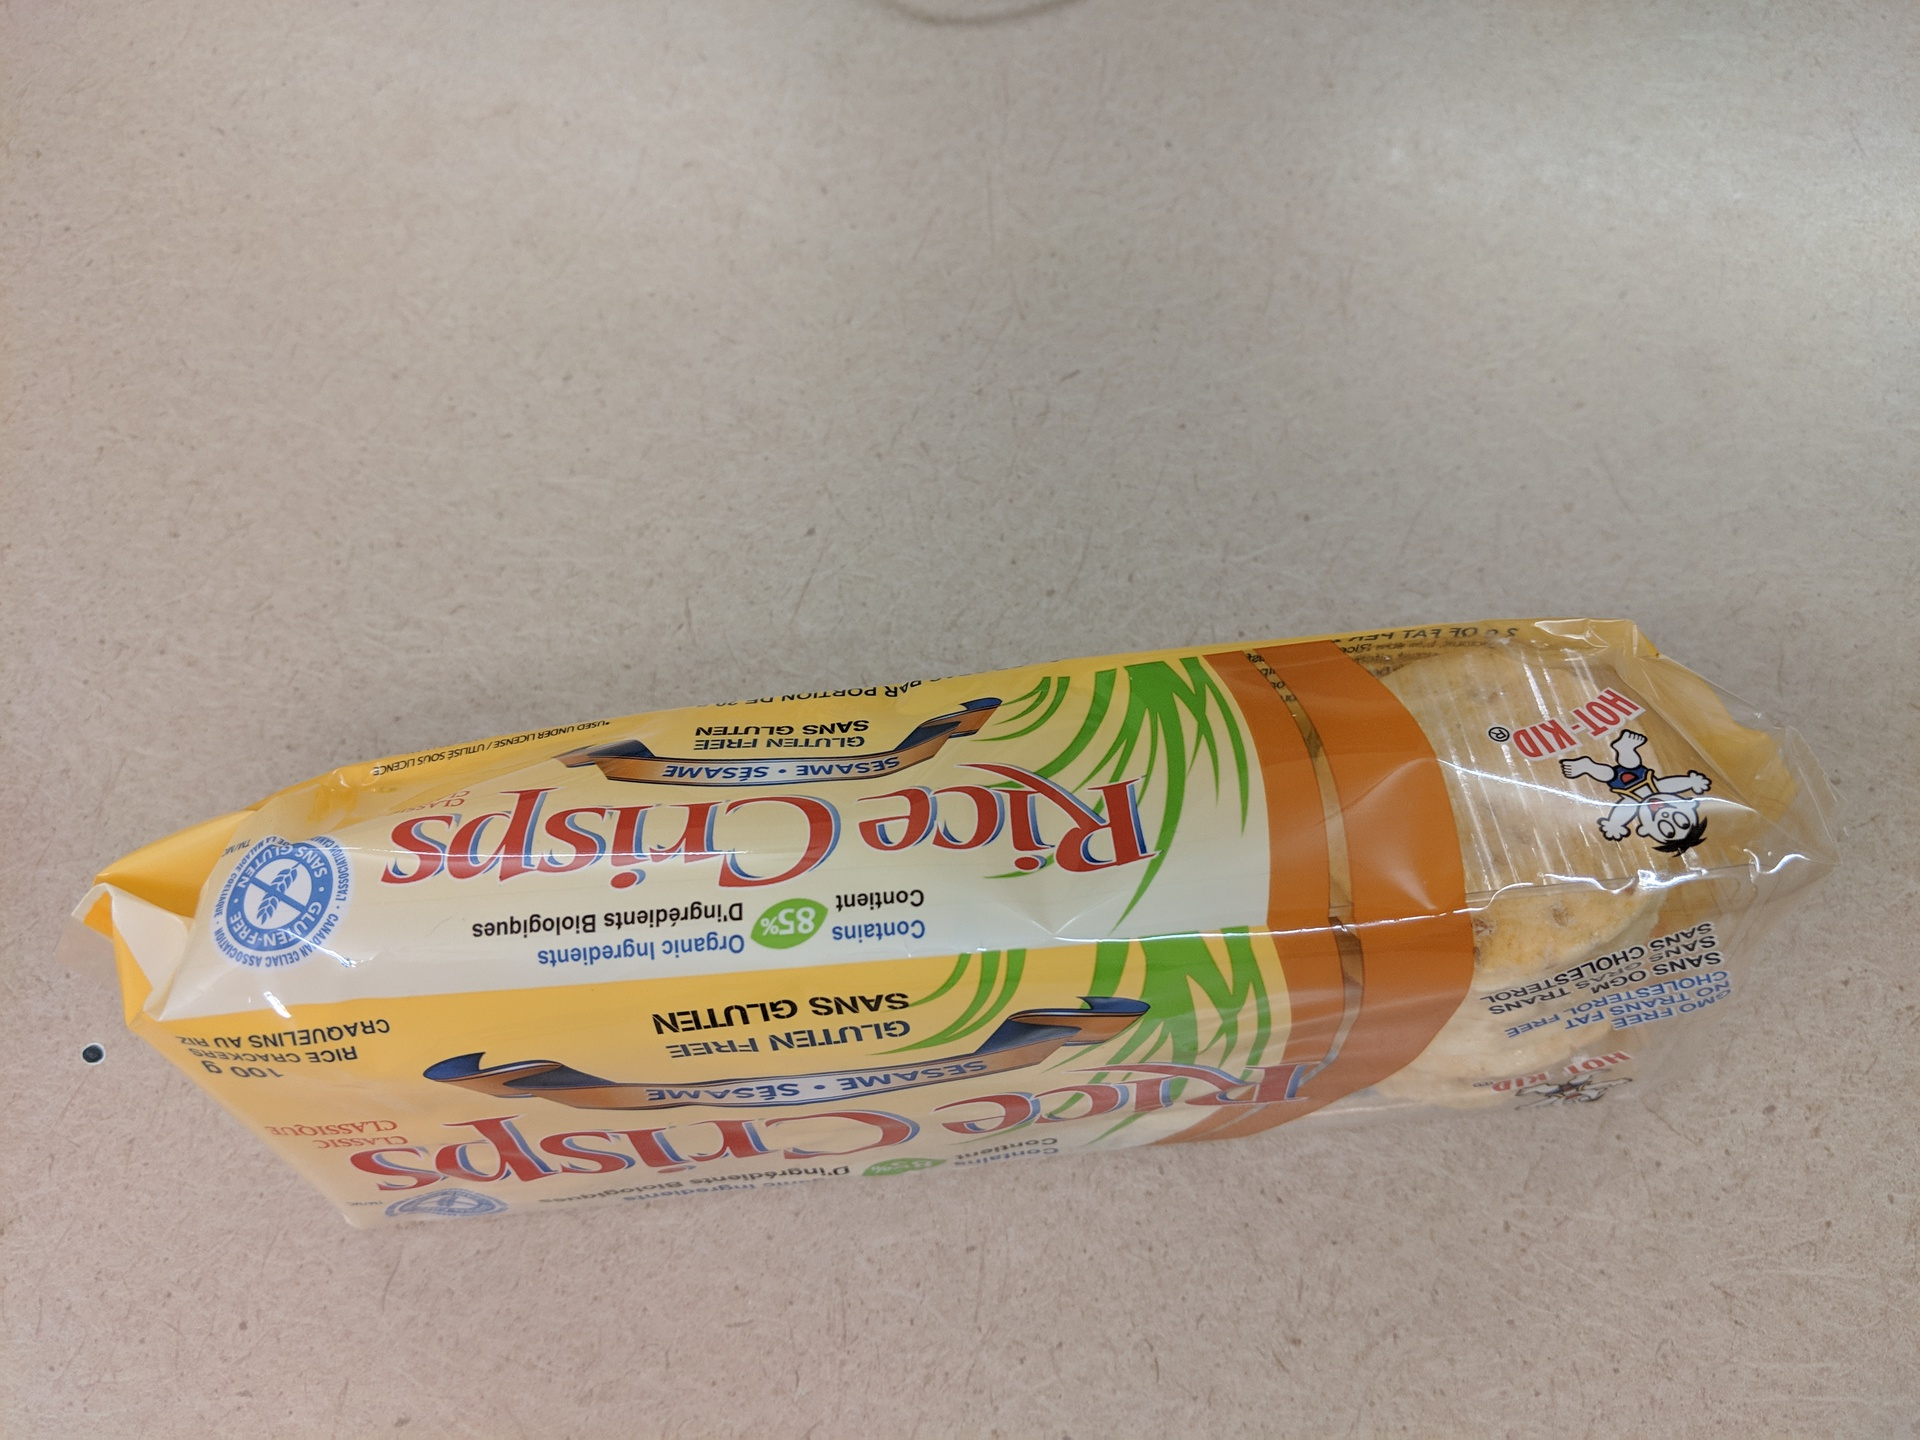hot_kid_rice_crisps_sesame: (65, 611, 1852, 1237)
